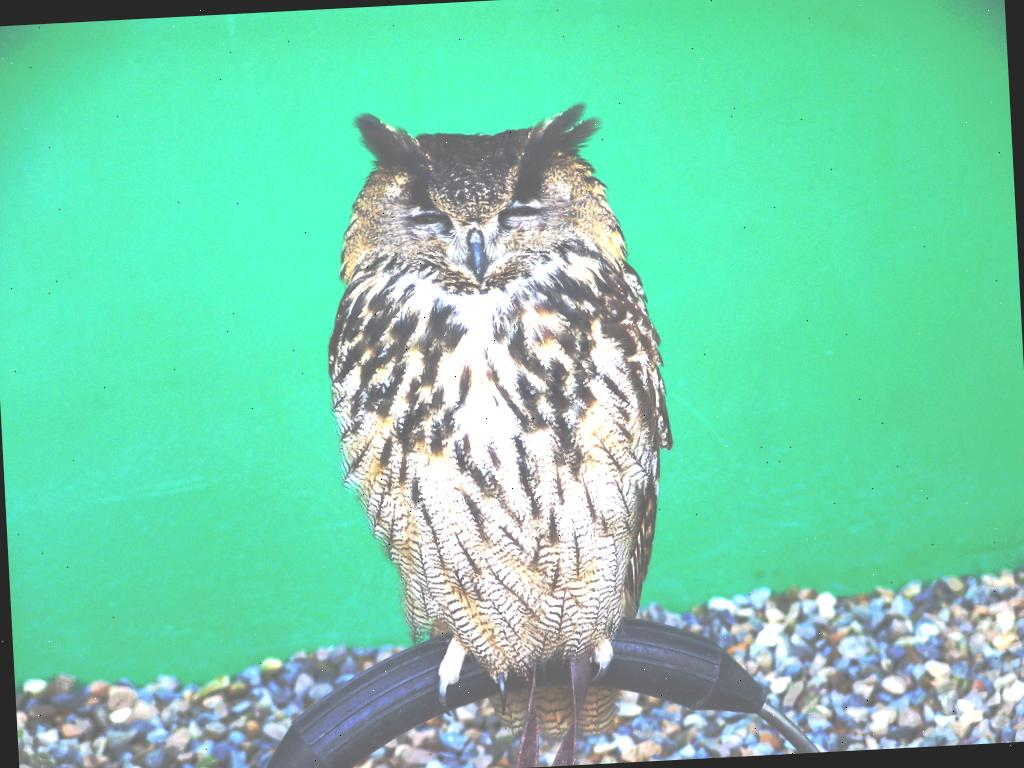Owl: (311, 93, 707, 768)
